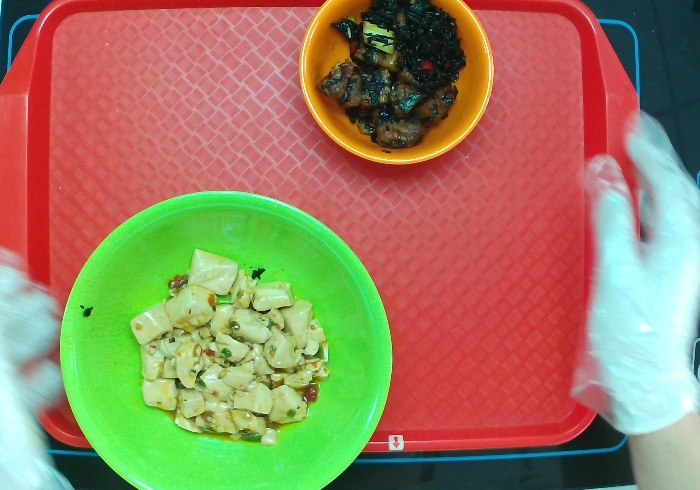YKMZ-Ju_Se_Yuan_Wan: (296, 1, 495, 168)
YKMZ-Lv_Se_Tang_Wan: (57, 189, 395, 490)
